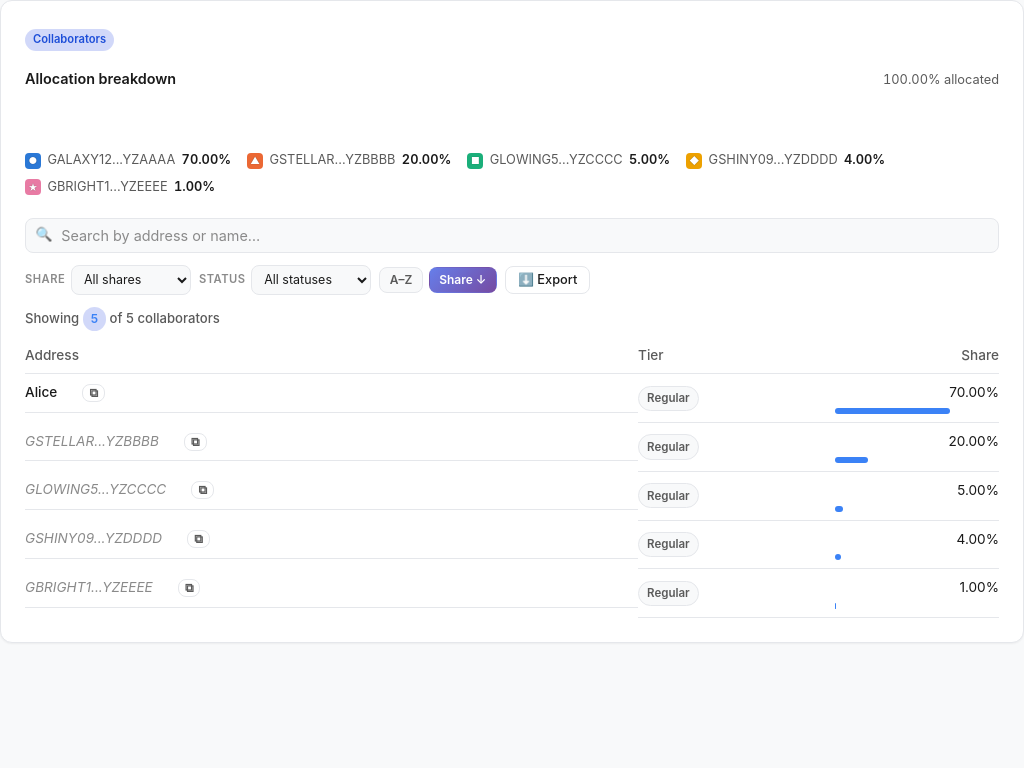
Test case: CollaboratorTable › finds collaborator by saved name
This screenshot has width=1024, height=768.
Expected: the text "Alice" is shown, [25,382,57,404]
Type "Alice" into the field with placeholder "Search by address or name…" at (512,235), box [25,218,999,253]
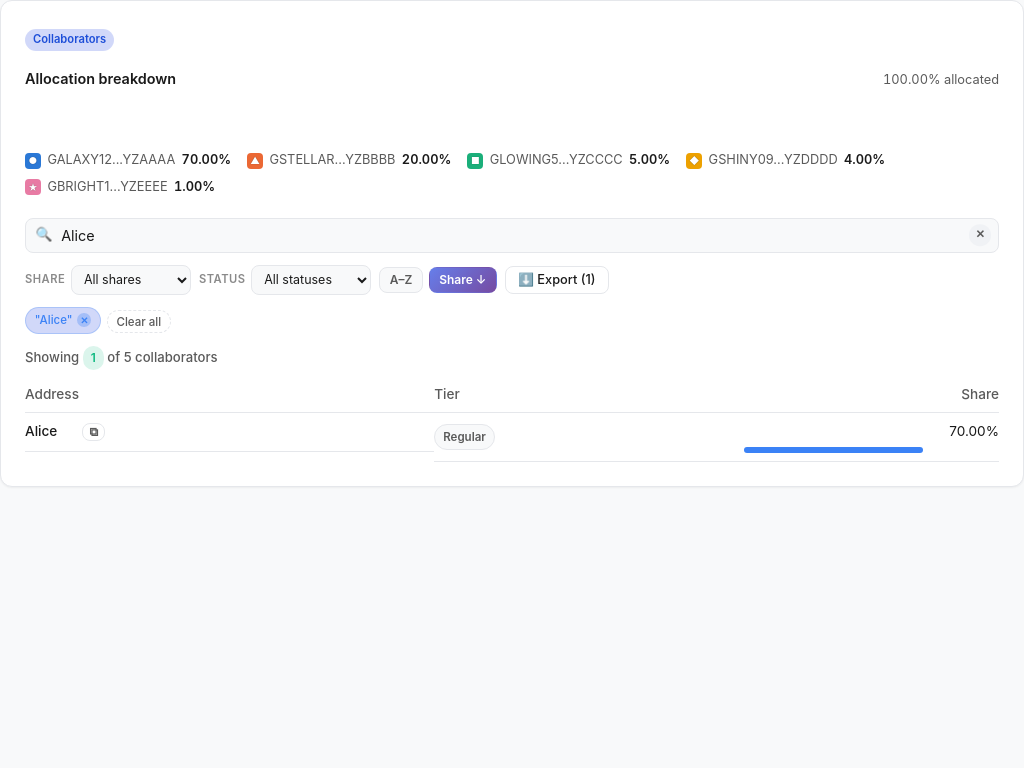
Now the text "Showing 1 of 5 collaborators" is shown, box [25,346,218,370]
